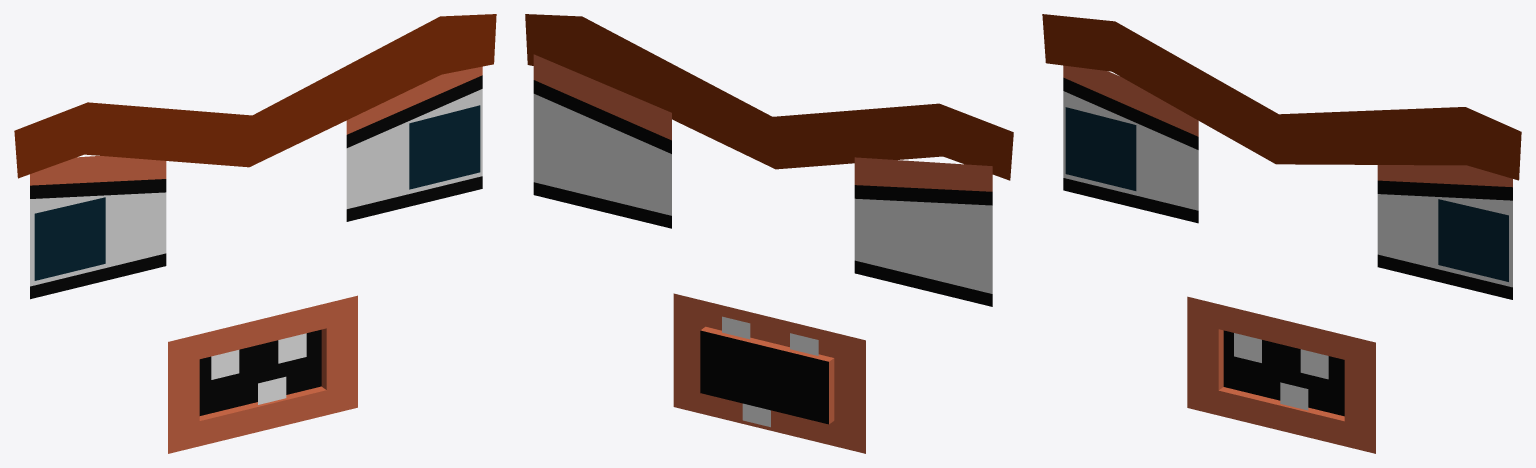
File: Face Female 06.FBX
The picture shows the model from 3 angles, left to right: view 1: azimuth 30°, elevation 25°; view 2: azimuth 150°, elevation 25°; view 3: azimuth 330°, elevation 25°; orthographic projection.
Visible parts, largest first — view 1: Face Female 06; view 2: Face Female 06; view 3: Face Female 06.
Part boxes in pixels (bbox=[...]): Face Female 06: bbox=[14, 14, 496, 453]; Face Female 06: bbox=[525, 14, 1013, 453]; Face Female 06: bbox=[1042, 14, 1521, 453].
Bounding box in the file's own units: 42.23 × 30.74 × 1.01.
